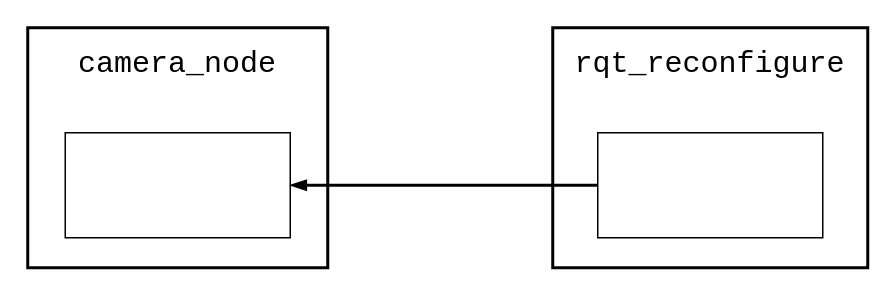
This 894x294 diagram has some shape labels left out. The shapes that lost their labels are listed below. From the top down, each one's centre as x and y in pixels, then its label:
the point at 177,184: reconfigure server
the point at 709,184: reconfigure client
